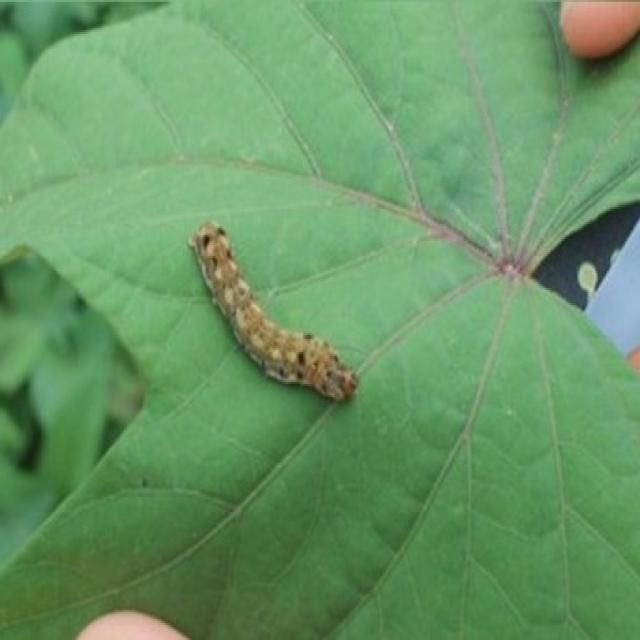armyworm: (187, 218, 360, 403)
